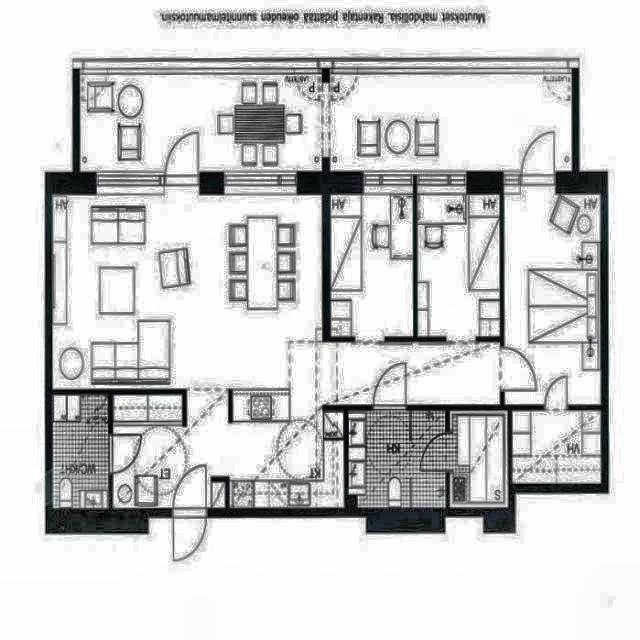room: (503, 193, 602, 405), (417, 193, 500, 337), (330, 194, 414, 336), (349, 411, 445, 506), (513, 411, 600, 482), (54, 395, 108, 507), (450, 411, 506, 506)
